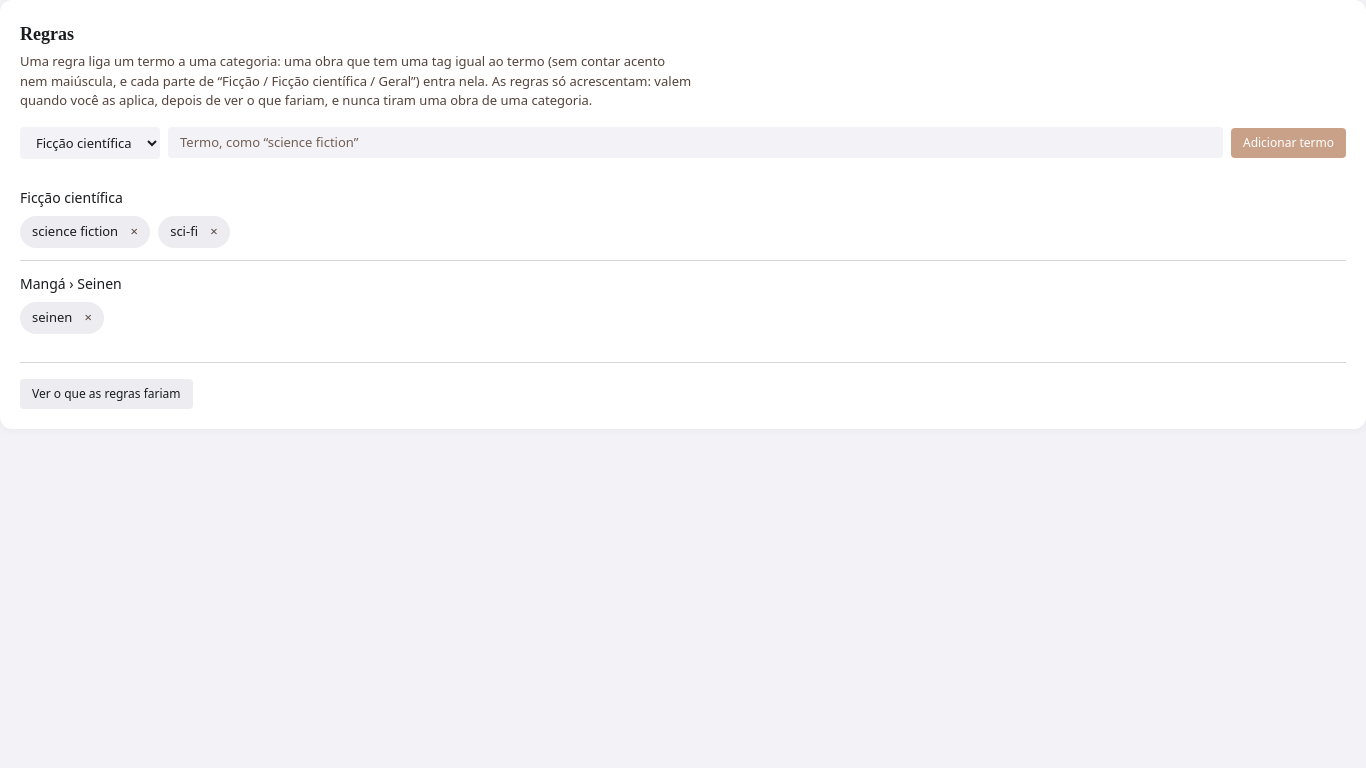
Scenario: CategoryRules: what they would do, and doing it › says there is nothing to do, and does not offer to apply
Click the button "Ver o que as regras fariam": click(106, 394) left=20, top=378, right=192, bottom=408
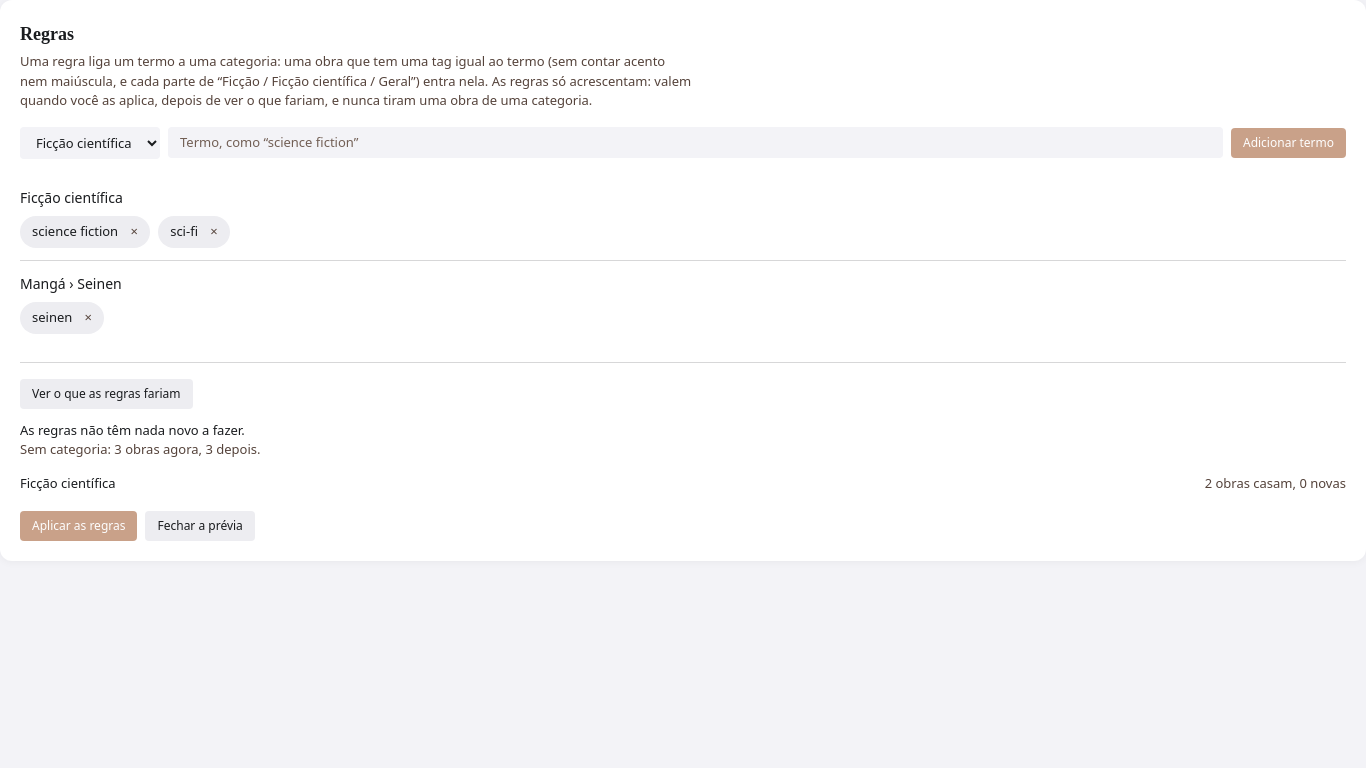
Expected: the button "Aplicar as regras" is disabled, left=20, top=511, right=138, bottom=541
